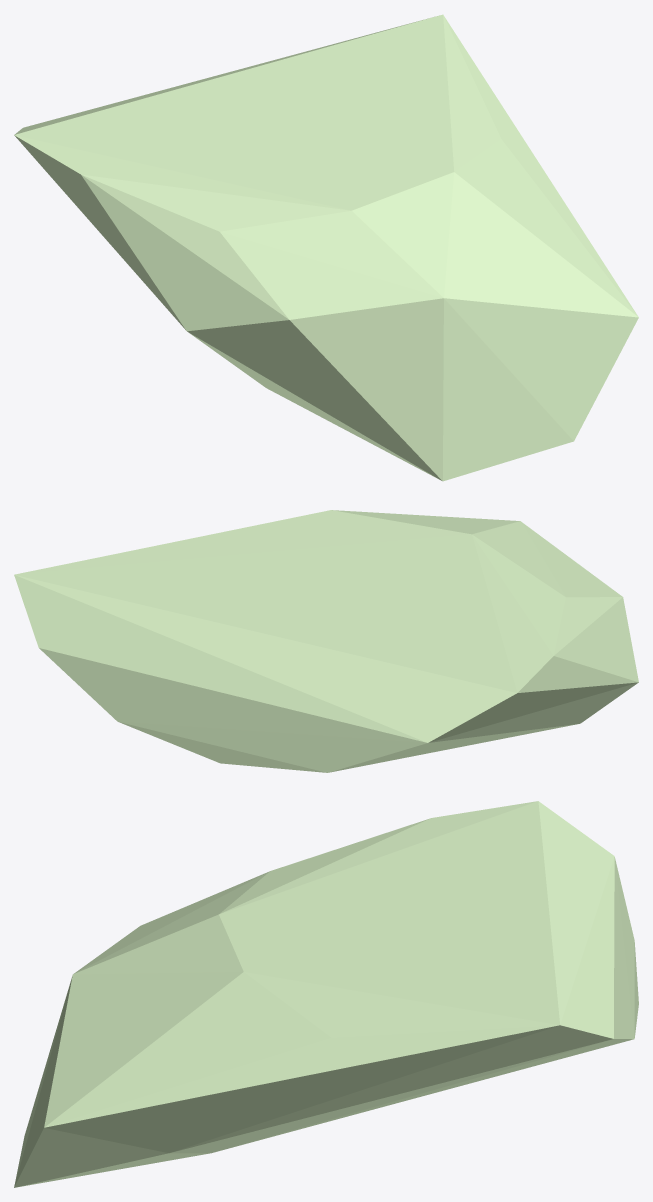
Rendered from kuka_link6_resp_coll_3.dae.
3 views of the same model, one above another, from view 1: azimuth 30°, elevation 25°; view 2: azimuth 150°, elevation 25°; view 3: azimuth 270°, elevation 25° (orthographic). The views are drawn at different scales.
Parts seen in each view (by area): view 1: Node_0000015C5C916960; view 2: Node_0000015C5C916960; view 3: Node_0000015C5C916960.
Part boxes in pixels (x1,y1,x2,y2): Node_0000015C5C916960: (14, 14, 638, 481); Node_0000015C5C916960: (14, 510, 638, 772); Node_0000015C5C916960: (14, 801, 638, 1187).
Bounding box in the file's own units: 0.0939 × 0.0458 × 0.1075.
